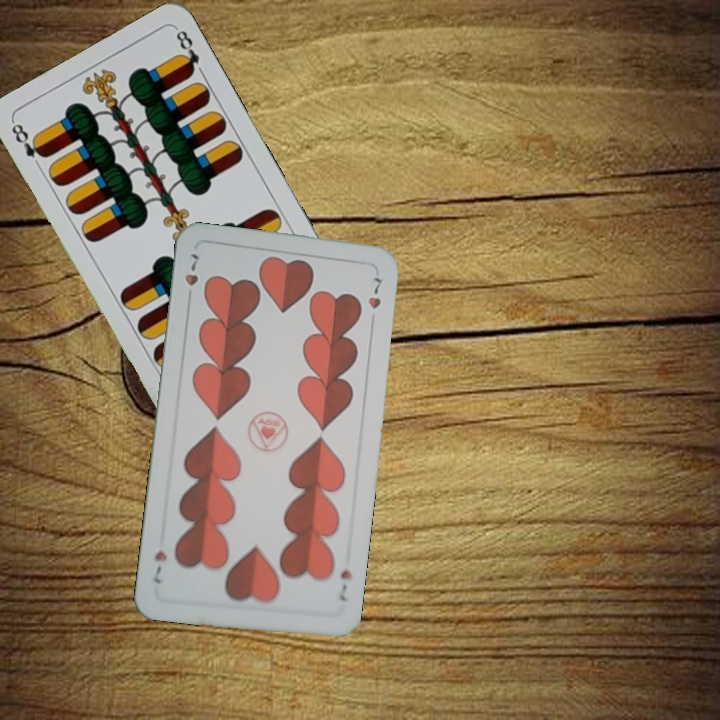E8: (7, 118, 50, 161)
H7: (180, 249, 201, 306), (335, 565, 355, 604)
